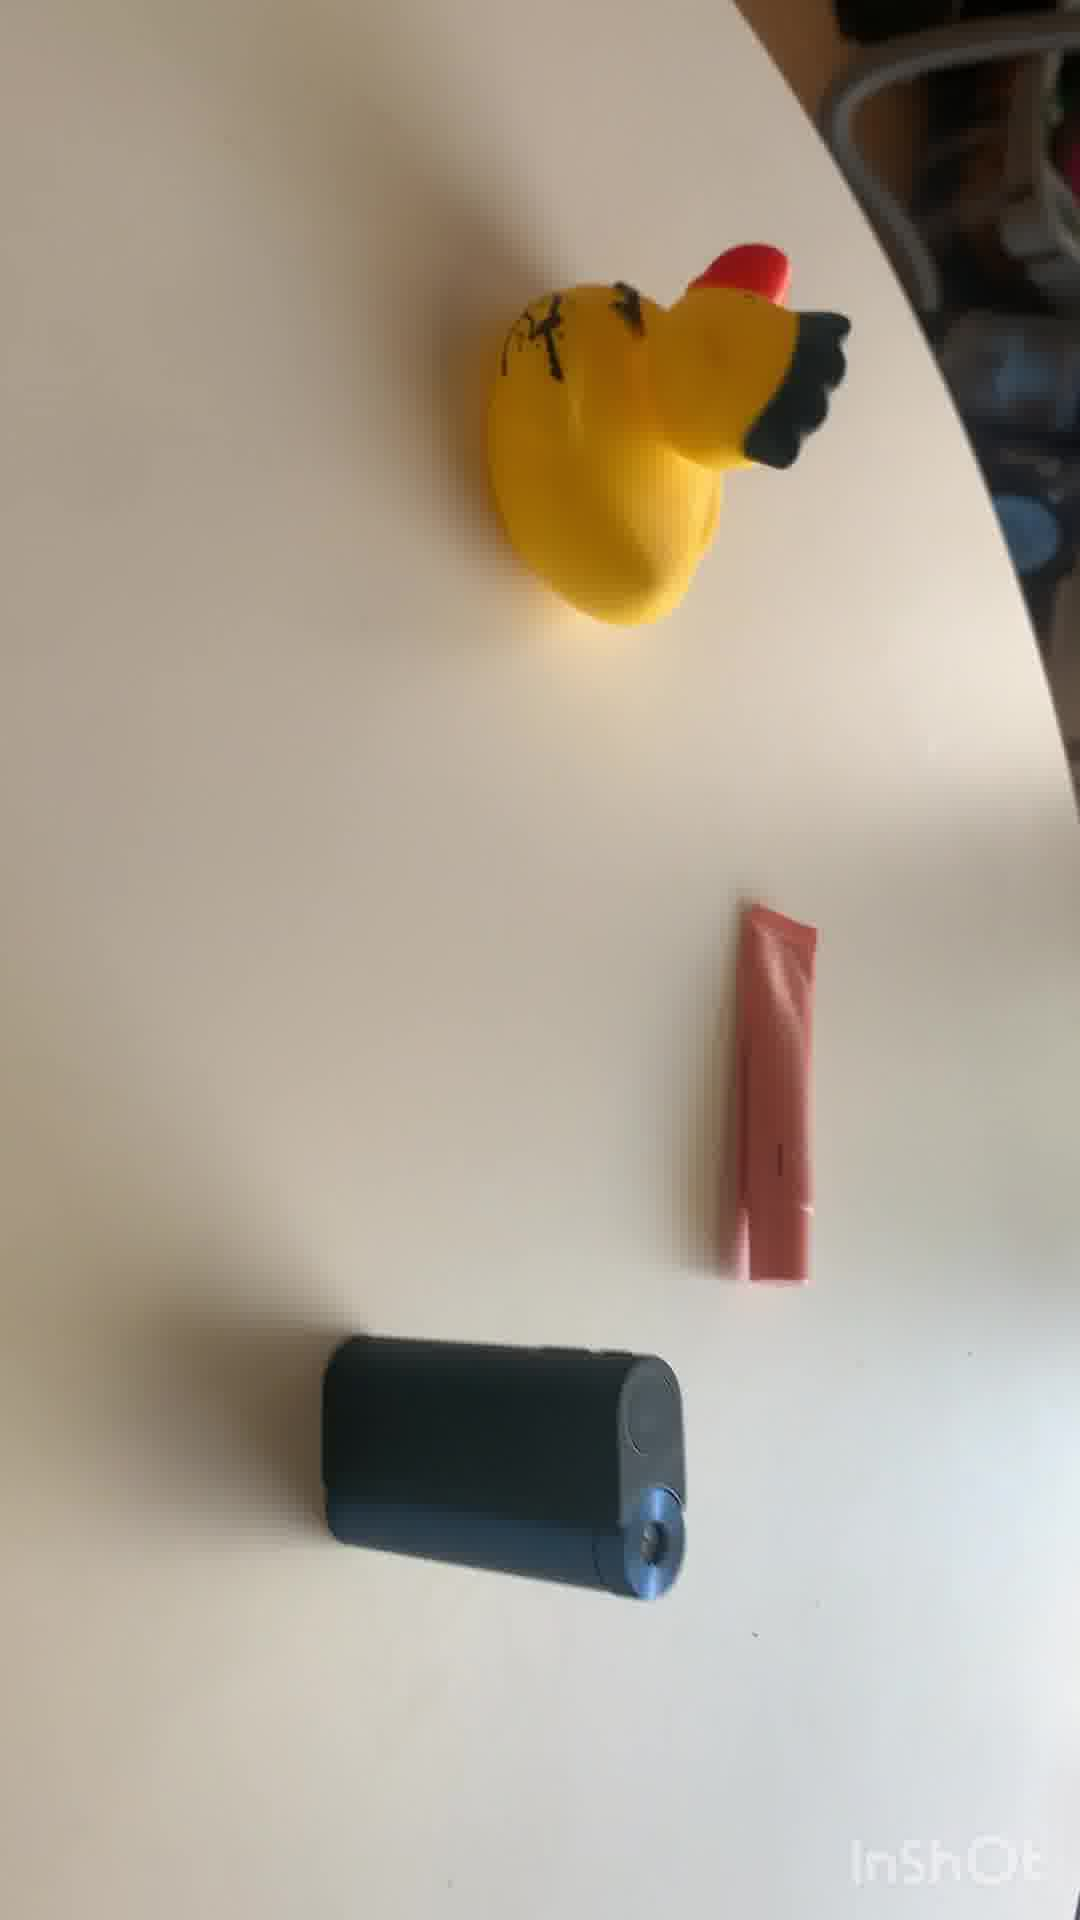duck: (472, 225, 862, 665)
glo: (313, 1336, 705, 1604)
lip balm: (733, 905, 825, 1290)
